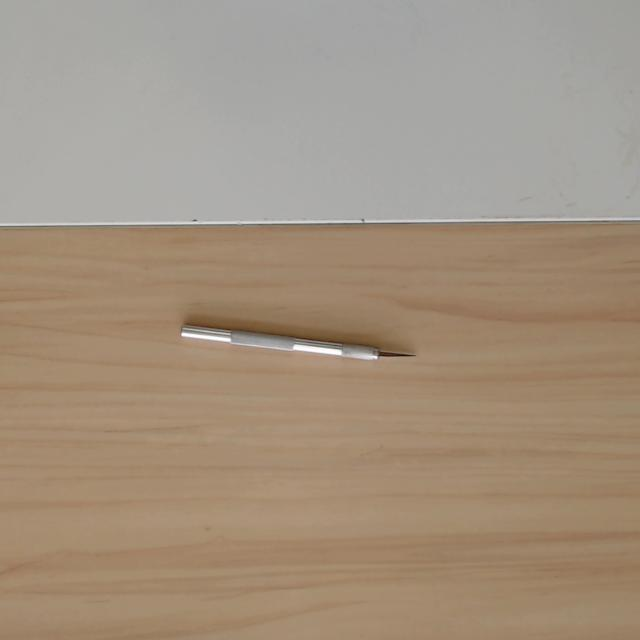Cutter-Kecil: (180, 323, 415, 367)
